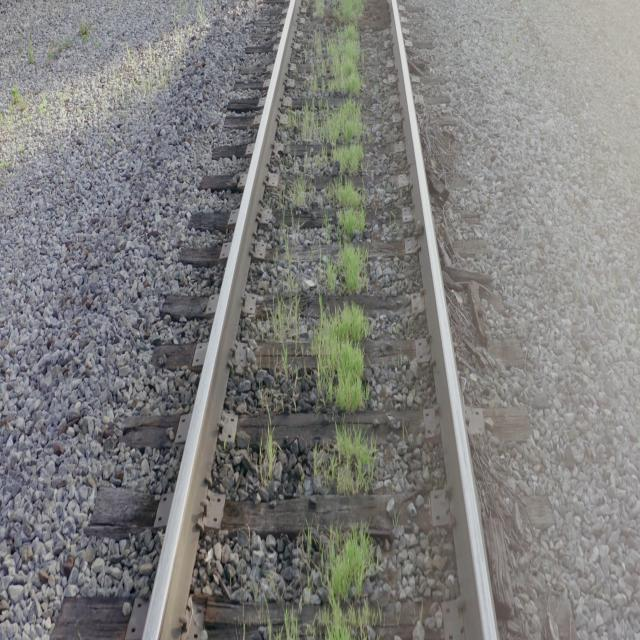Plant: (289, 0, 368, 293), (310, 529, 374, 640), (320, 527, 379, 640), (311, 302, 370, 411), (312, 427, 376, 496), (272, 300, 300, 338), (259, 429, 278, 480), (281, 613, 299, 638)
